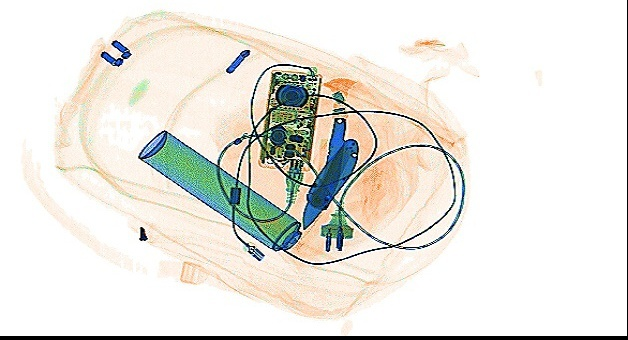knife: (297, 73, 357, 231), (303, 133, 357, 210)
pressure: (136, 128, 320, 266)
